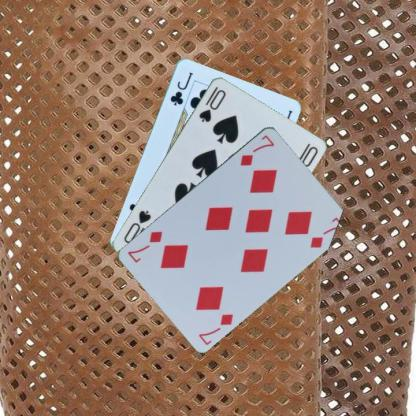10s: (196, 83, 227, 124)
7d: (196, 310, 234, 346), (238, 132, 275, 167)
Jc: (167, 69, 194, 107)
